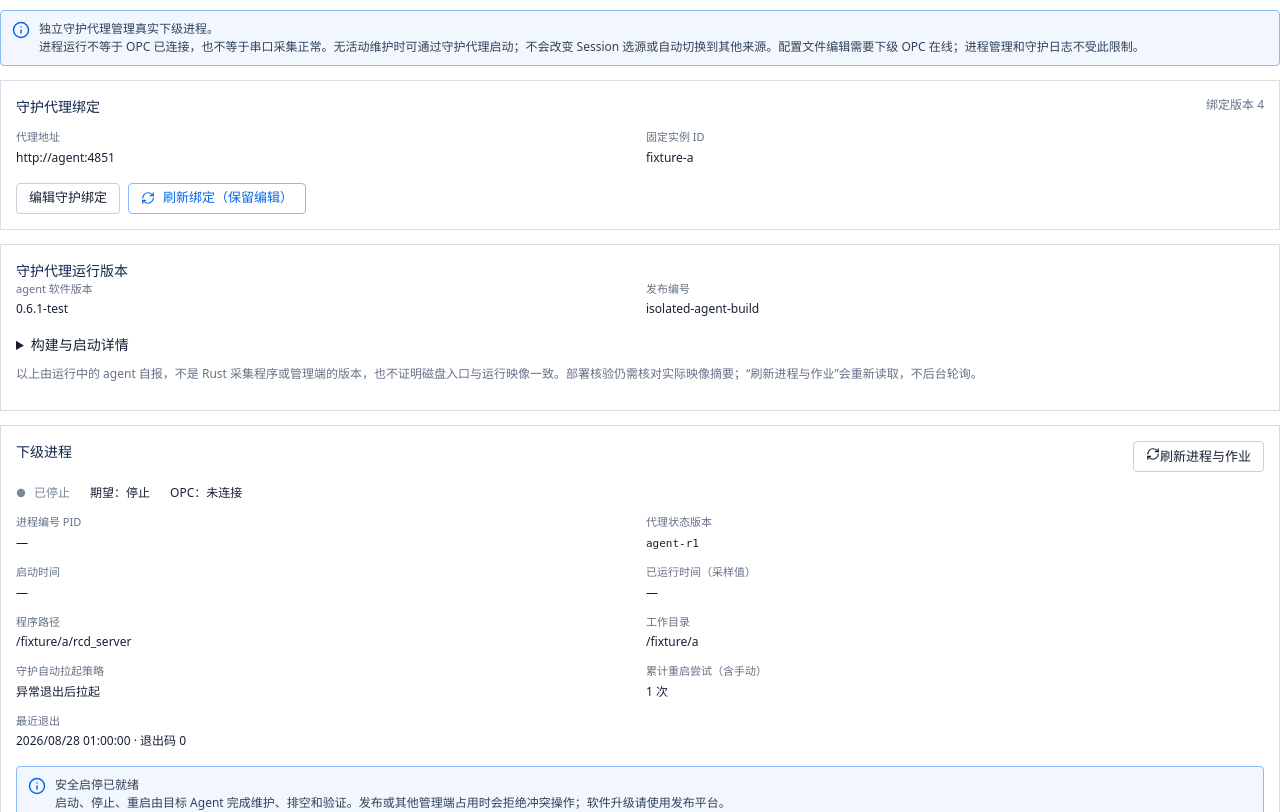
Scenario: physical process management › shows the separate running agent identity and keeps it stale on refresh failure
Expected: the text "0.6.1-test" is shown, [16,300,68,317]
Click the heading "构建与启动详情" at {"x": 80, "y": 344}, box [31,335,129,354]
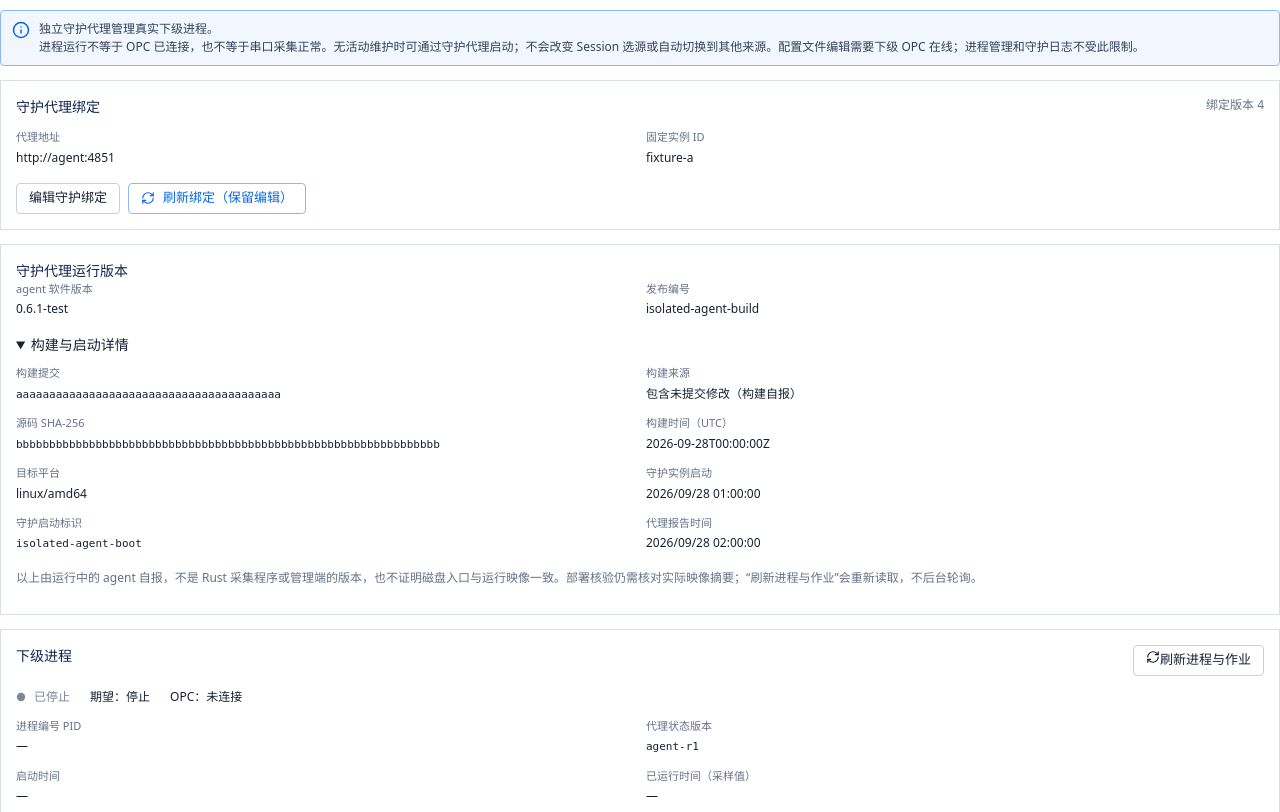
Expected: the text "不是 Rust 采集程序或管理端的版本" is shown, [16,568,983,586]
Expected: the text "isolated-agent-boot" is shown, [16,537,142,550]
Expected: the text "包含未提交修改（构建自报）" is shown, [646,384,802,402]
Click the button "刷新进程与作业" at {"x": 1198, "y": 660}, box [1133,644,1264,676]
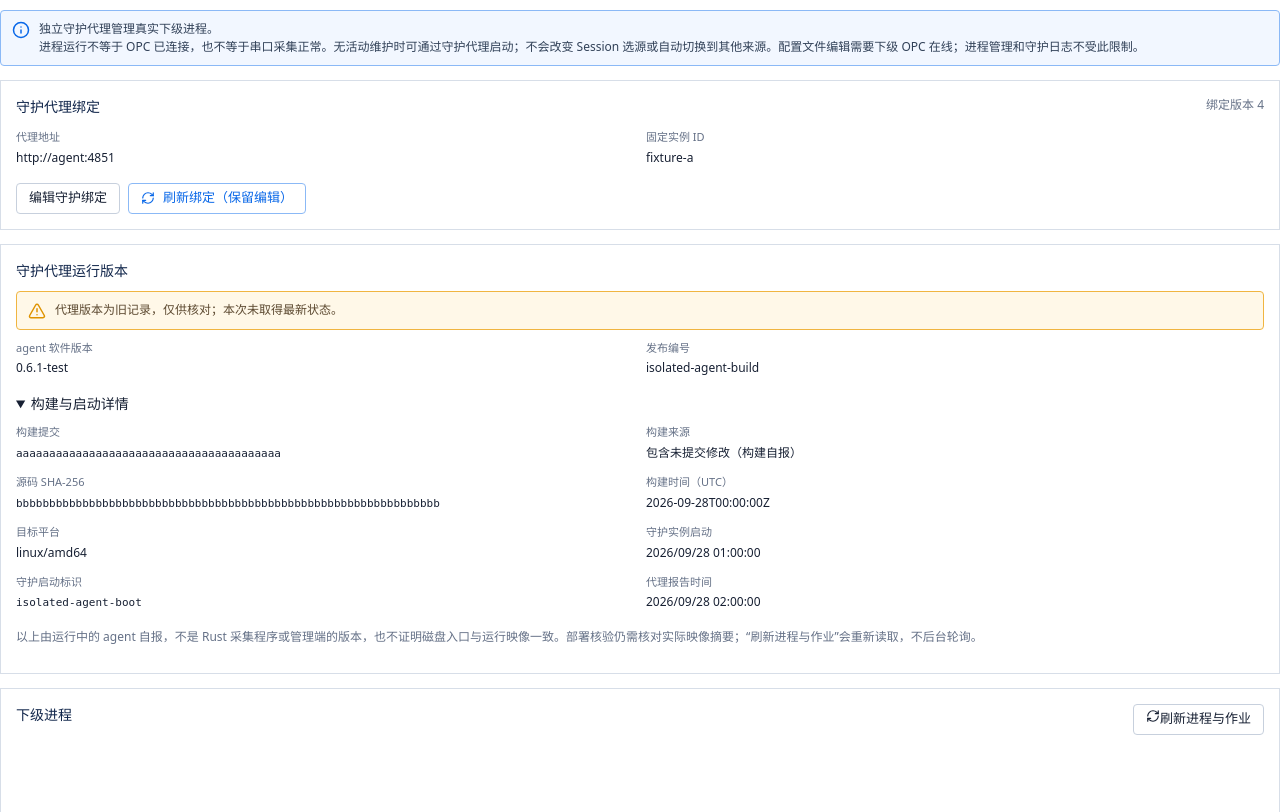
Expected: the text "0.6.1-test" is shown, [16,359,68,376]
Expected: the text "代理版本为旧记录，仅供核对；本次未取得最新状态。" is shown, [55,300,343,318]
